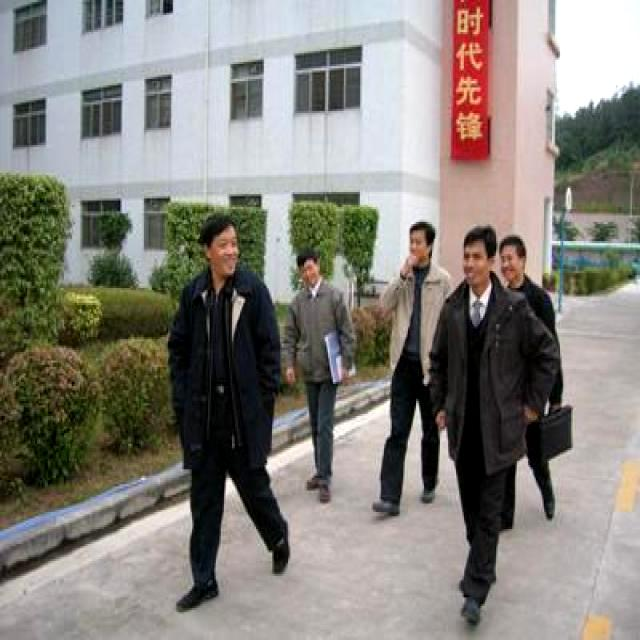no_head_wear: (198, 211, 235, 245), (463, 224, 496, 256), (410, 222, 434, 243), (499, 235, 525, 254), (298, 247, 317, 267)
person: (430, 224, 558, 623), (170, 211, 288, 608), (373, 222, 451, 514), (285, 247, 352, 501), (499, 237, 557, 339)
